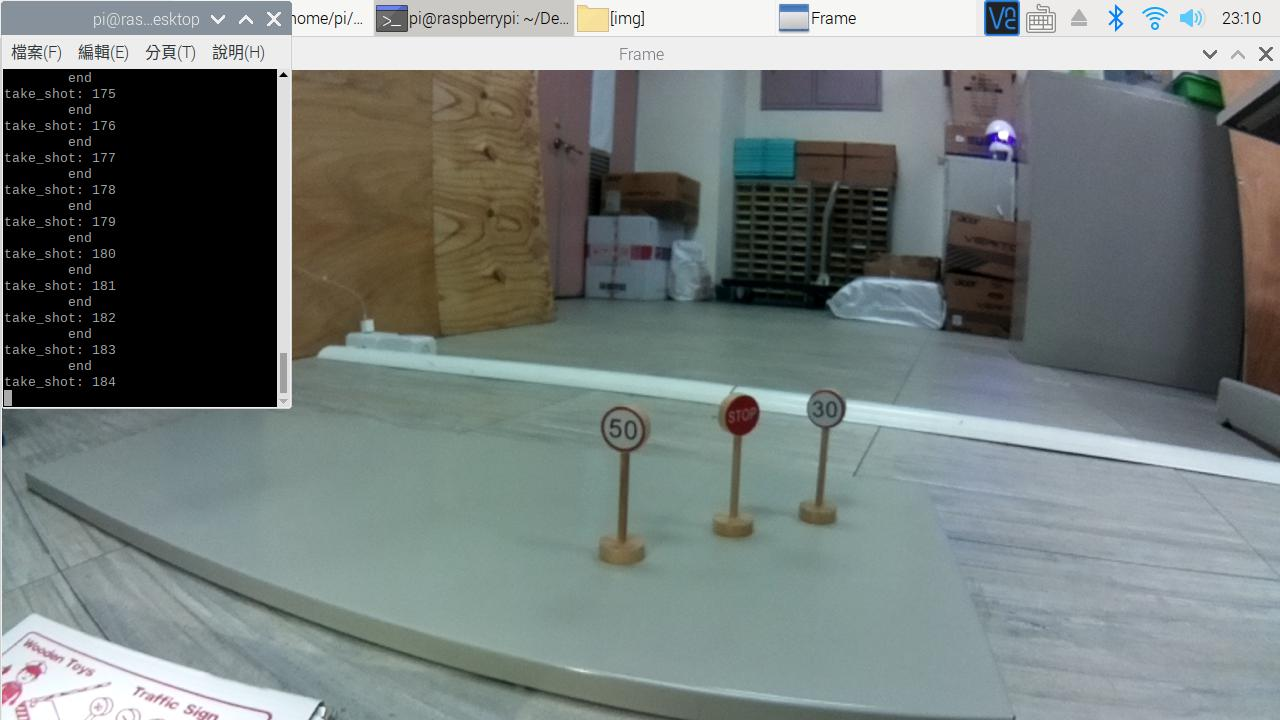Speed30: (800, 379, 855, 433)
Speed50: (594, 401, 654, 464)
Stop: (716, 387, 766, 444)
